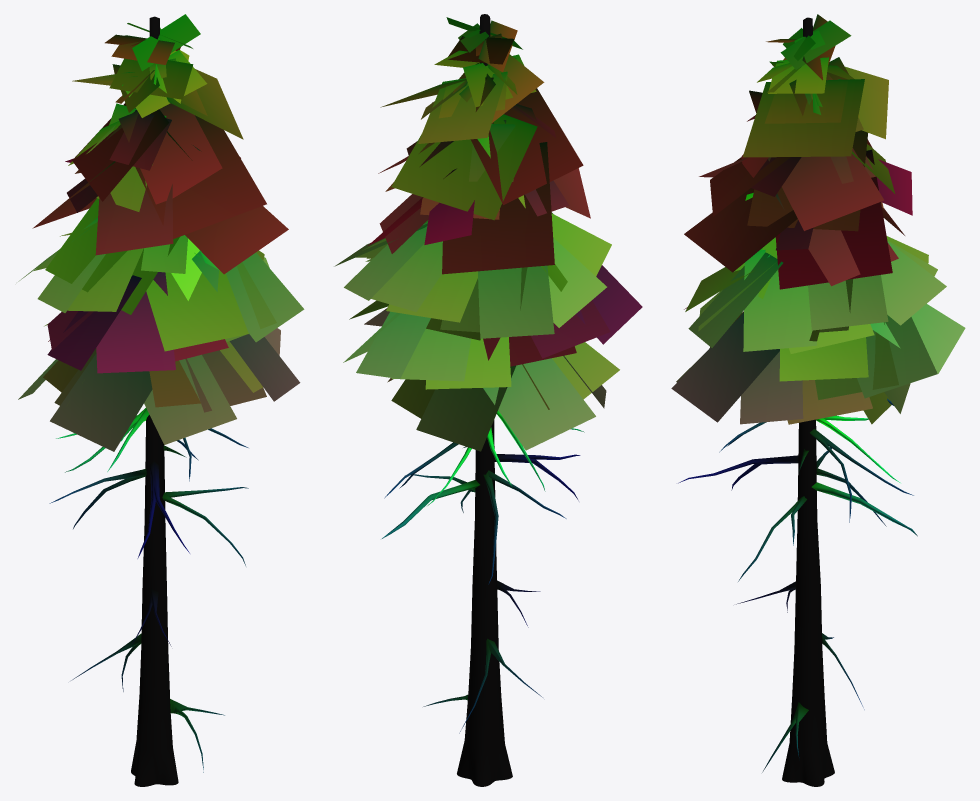
File: M_Pine_4_9.fbx
3 renders of one model, left to right at view 1: azimuth 30°, elevation 25°; view 2: azimuth 150°, elevation 25°; view 3: azimuth 270°, elevation 25°, orthographic.
Visible parts, largest first — view 1: Tree_9; view 2: Tree_9; view 3: Tree_9.
Part boxes in pixels (x1,y1,x2,y2): Tree_9: (18,14,304,786); Tree_9: (334,14,642,786); Tree_9: (671,14,965,786).
Bounding box in the file's own units: 884 × 2588 × 910.
